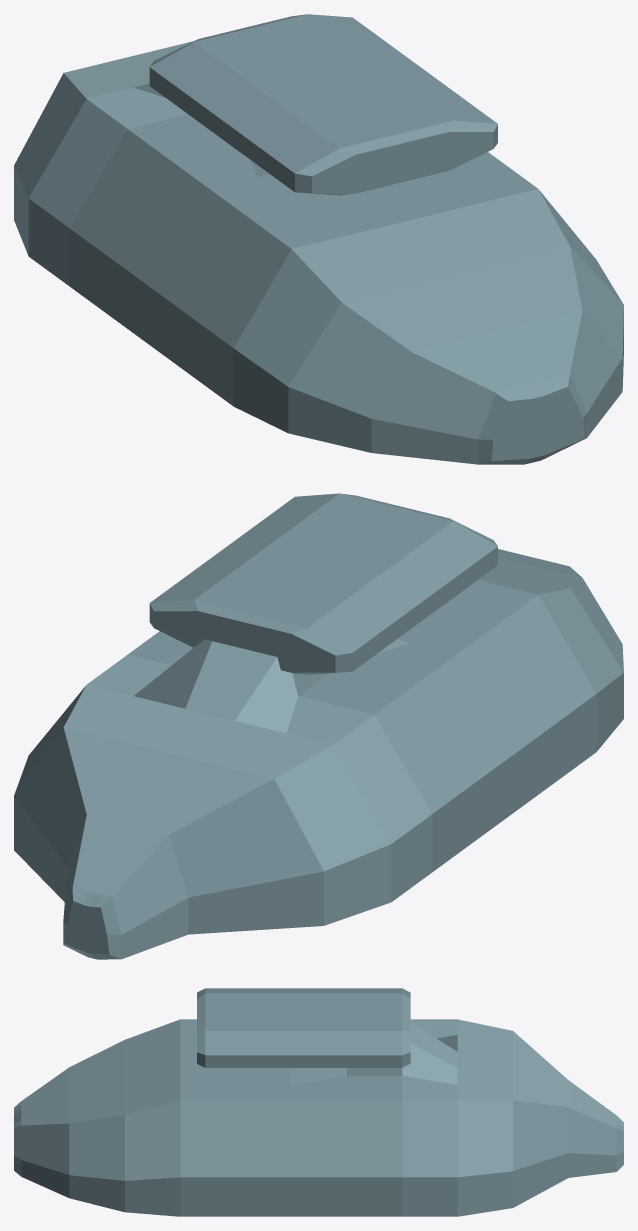
File: ballard_transport_a.glb
3 views of the same model, one above another, from view 1: azimuth 30°, elevation 25°; view 2: azimuth 150°, elevation 25°; view 3: azimuth 270°, elevation 25° (orthographic). The views are drawn at different scales.
Parts seen in each view (by area): view 1: ballard_transport_a; view 2: ballard_transport_a; view 3: ballard_transport_a.
Boxes of the visible parts, x1,y1,x2,y2 form: ballard_transport_a: (14,14,623,464); ballard_transport_a: (14,493,623,959); ballard_transport_a: (14,988,623,1216).
Size of the model in its own units: 3.9 by 2.35 by 8.4.
